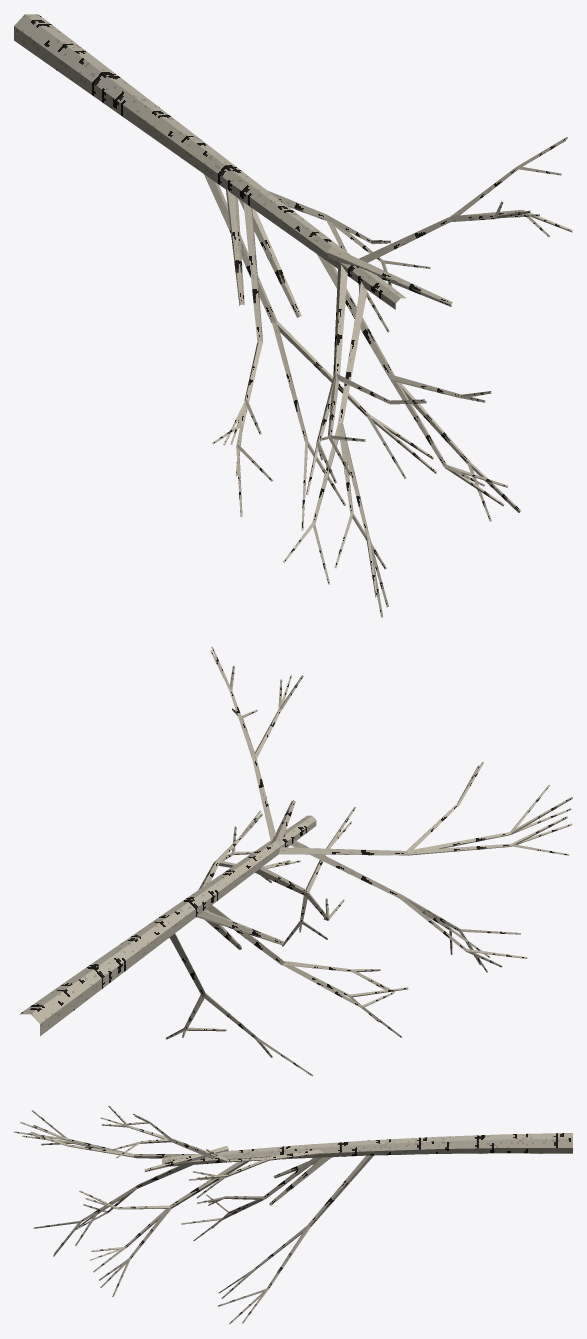
The model's file is birch_tree_dead.glb.
3 views of the same model, one above another, from view 1: azimuth 30°, elevation 25°; view 2: azimuth 150°, elevation 25°; view 3: azimuth 270°, elevation 25° (orthographic). The views are drawn at different scales.
Visible parts, largest first — view 1: bark; view 2: bark; view 3: bark.
Part boxes in pixels (x1=…): bark: x1=14, y1=14, x2=572, y2=617; bark: x1=19, y1=646, x2=572, y2=1076; bark: x1=14, y1=1105, x2=572, y2=1324.
Bounding box in the file's own units: 3.2 × 3.61 × 7.81.
1 material, 1 textured.
